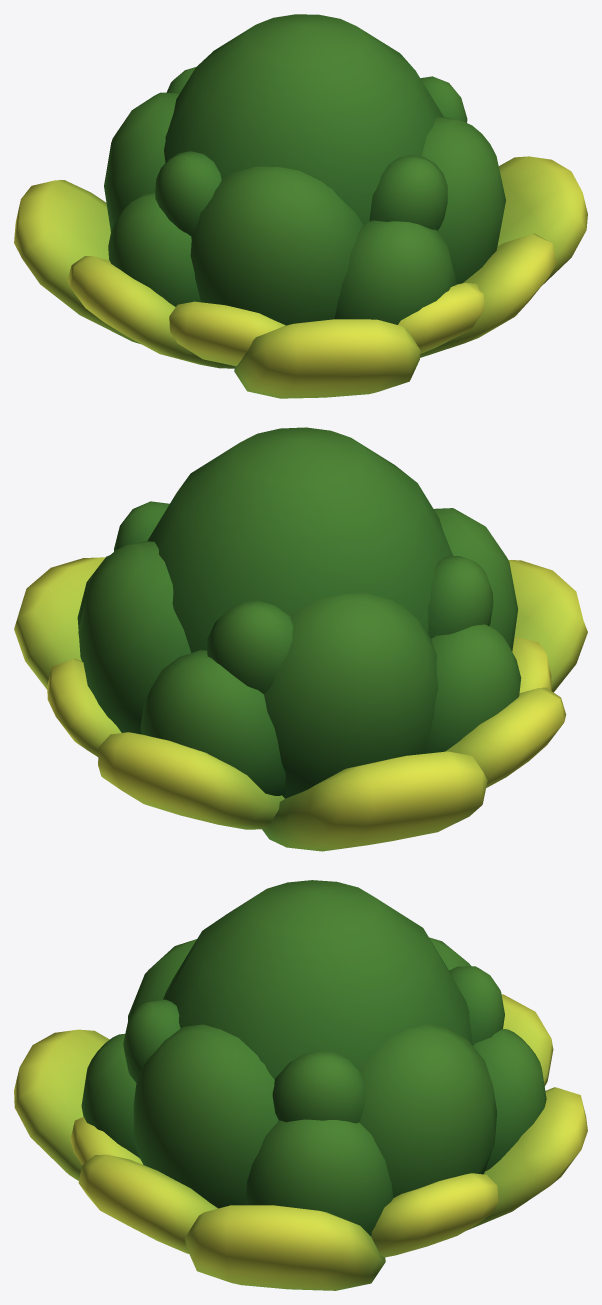
File: Broccoli.glb
The picture shows the model from 3 angles, top to bottom: view 1: azimuth 30°, elevation 25°; view 2: azimuth 150°, elevation 25°; view 3: azimuth 270°, elevation 25°; orthographic projection. The views are drawn at different scales.
Parts seen in each view (by area): view 1: Broccoli; view 2: Broccoli; view 3: Broccoli.
Boxes of the visible parts, left/top/right/bottom form: Broccoli: left=14, top=14, right=587, bottom=398; Broccoli: left=14, top=427, right=587, bottom=851; Broccoli: left=14, top=880, right=587, bottom=1290.
Size of the model in its own units: 0.7096 by 0.4633 by 0.6938.
1 material, 1 textured.
